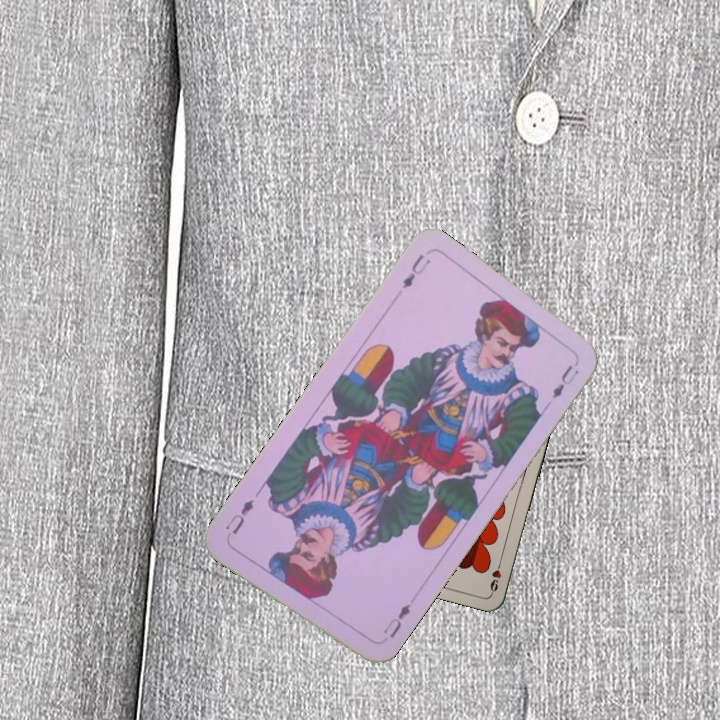EU: (398, 250, 433, 292), (379, 599, 413, 641)
H9: (486, 556, 504, 596)
